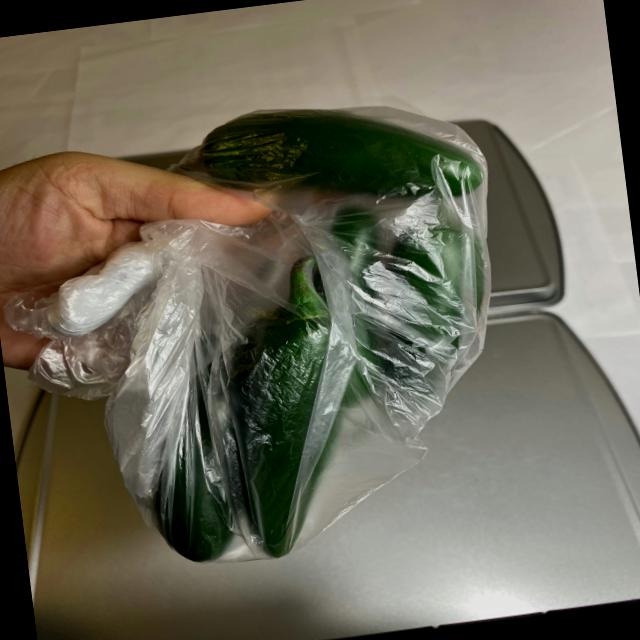chilli: (102, 82, 543, 578)
